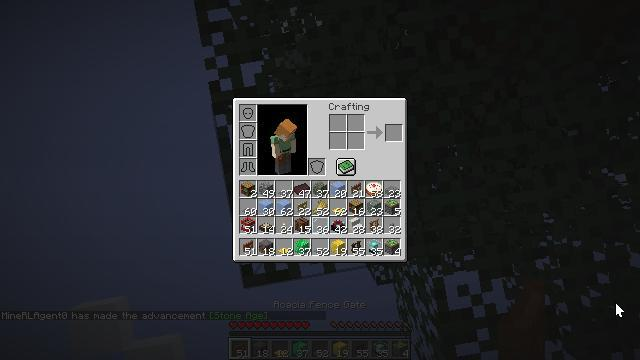cursor: (615, 302, 625, 318)
